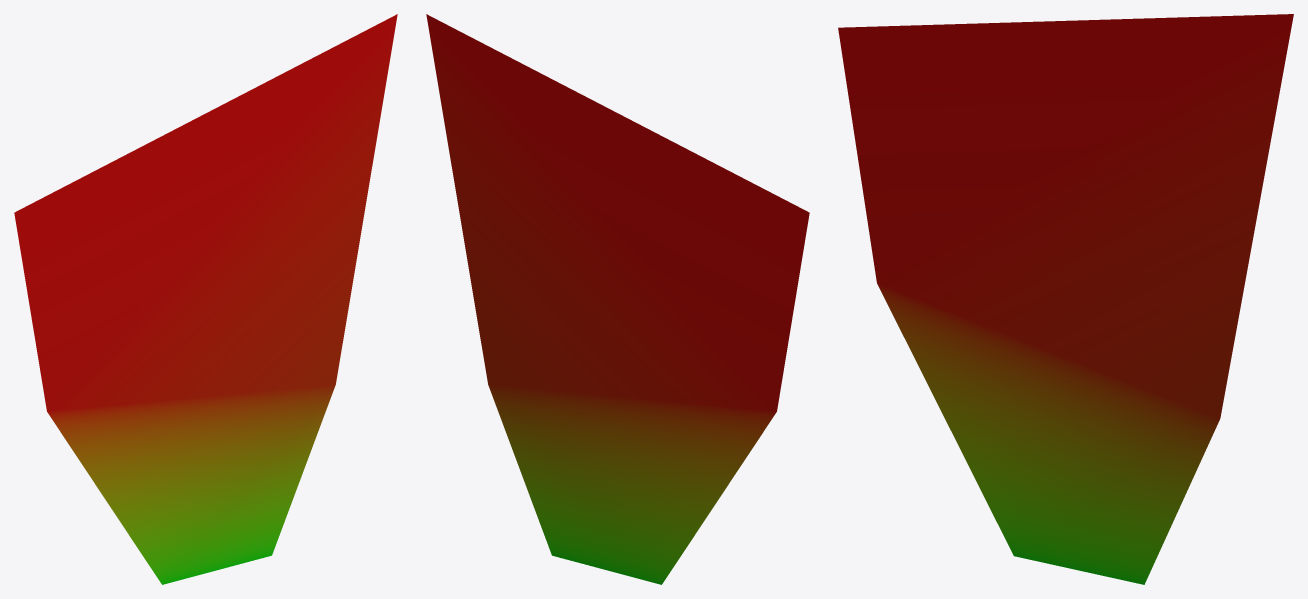
The model's file is Silvery Glade Fern_LOD7_Var2_xf5lebcqx.fbx.
3 renders of one model, left to right at view 1: azimuth 30°, elevation 25°; view 2: azimuth 150°, elevation 25°; view 3: azimuth 330°, elevation 25°, orthographic. The views are drawn at different scales.
Visible parts, largest first — view 1: _9q76_Var2_LOD7; view 2: _9q76_Var2_LOD7; view 3: _9q76_Var2_LOD7.
Part boxes in pixels (<box>): _9q76_Var2_LOD7: <box>14,14,397,584</box>; _9q76_Var2_LOD7: <box>426,14,809,584</box>; _9q76_Var2_LOD7: <box>838,14,1293,584</box>.
Size of the model in its own units: 12.03 by 15.4 by 6.73e-07.
